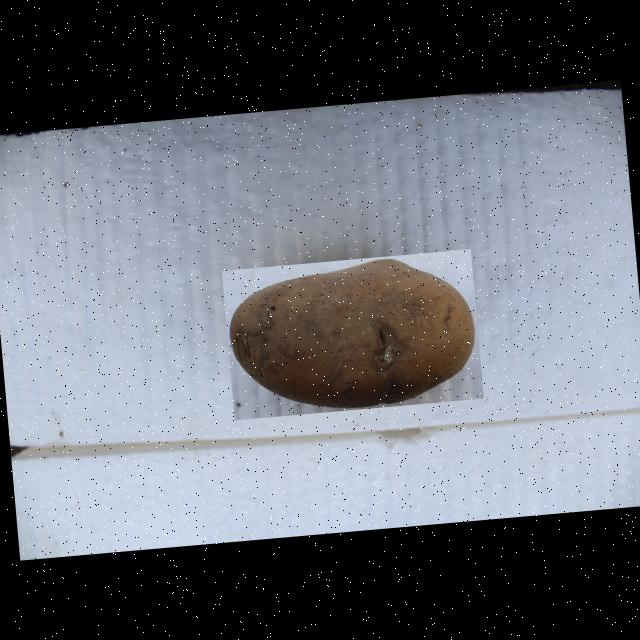Diseased-fungal potato: (222, 248, 484, 420)
